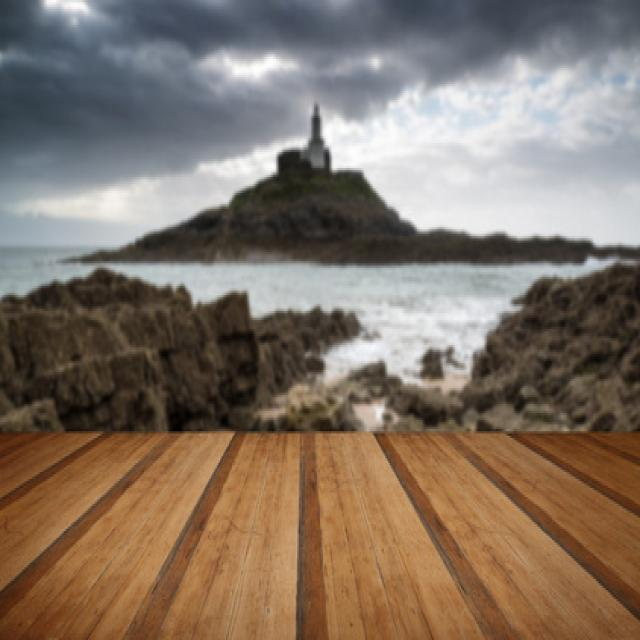island: (71, 92, 583, 274)
